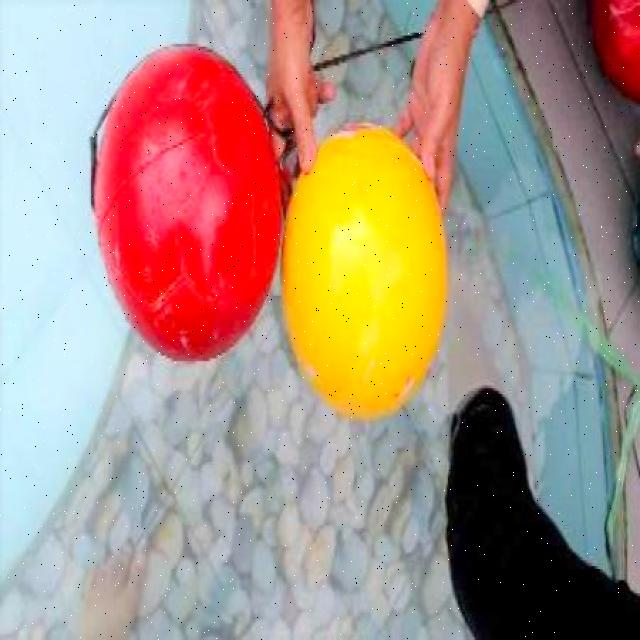buoy: (92, 42, 281, 362), (282, 119, 448, 417)
